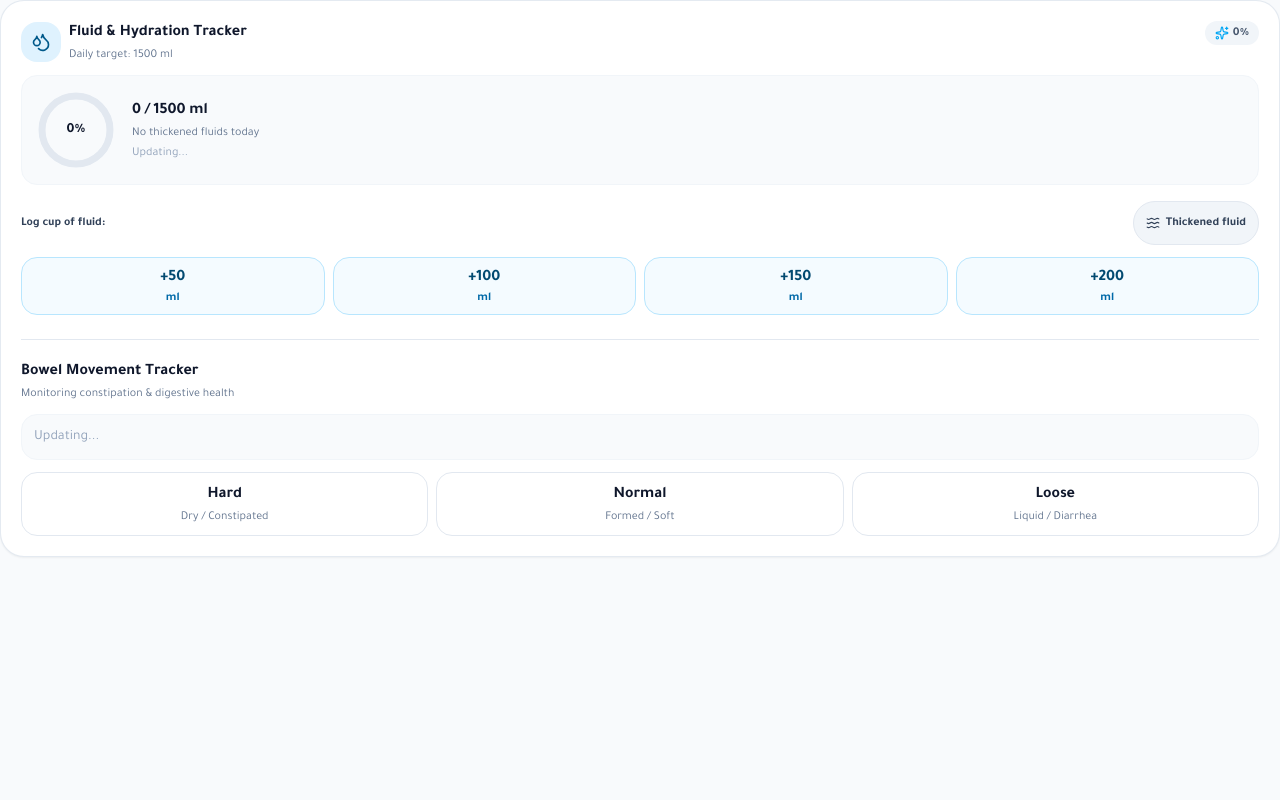
Scenario: FluidBowelCard (Issue #28) › renders 3 bowel stool scale buttons (Hard, Normal, Loose) and logs on 1-tap
Expected: the button with test id "bowel-button-hard" is shown, [21,472,428,536]
Expected: the button with test id "bowel-button-loose" is shown, [852,472,1259,536]
Click the button with test id "bowel-button-normal": {"x": 640, "y": 504} [436,472,844,536]
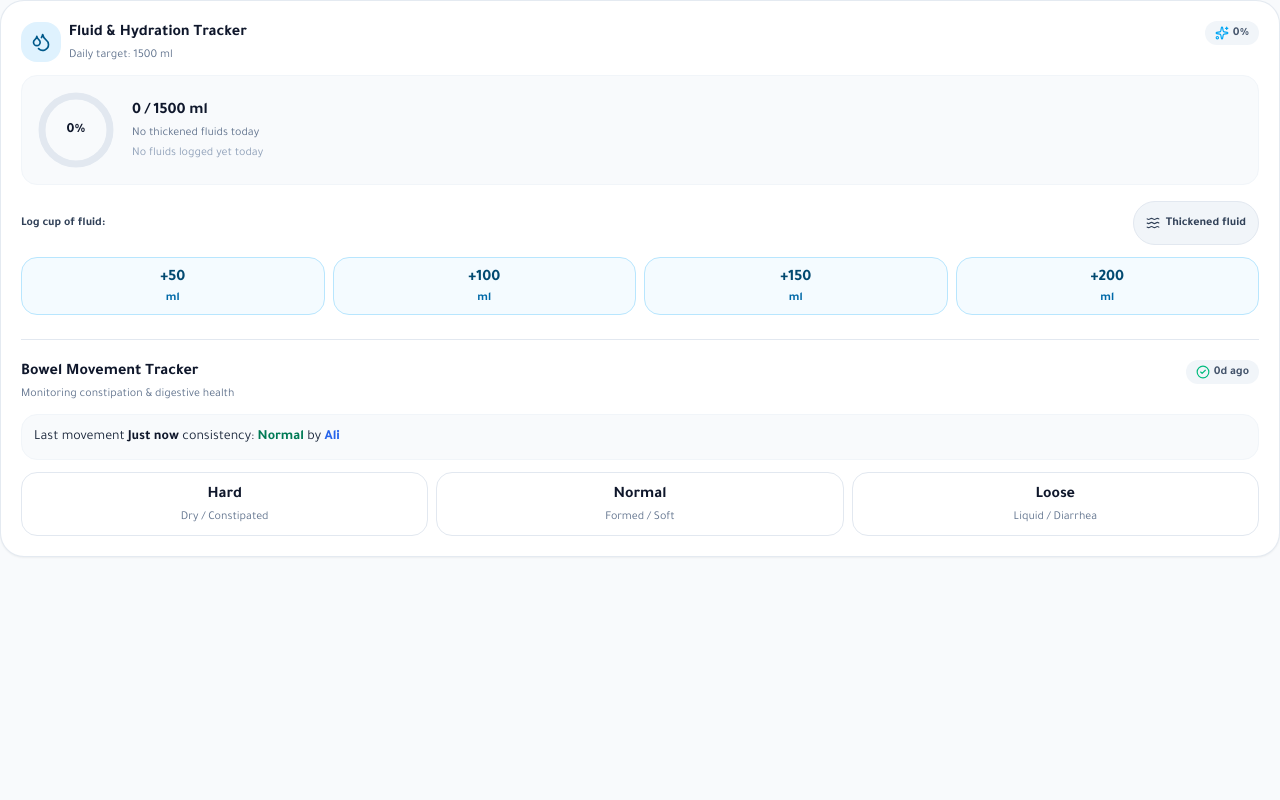
Expected: the element with test id "bowel-status-narrative" shows "Normal", [258,430,304,444]
